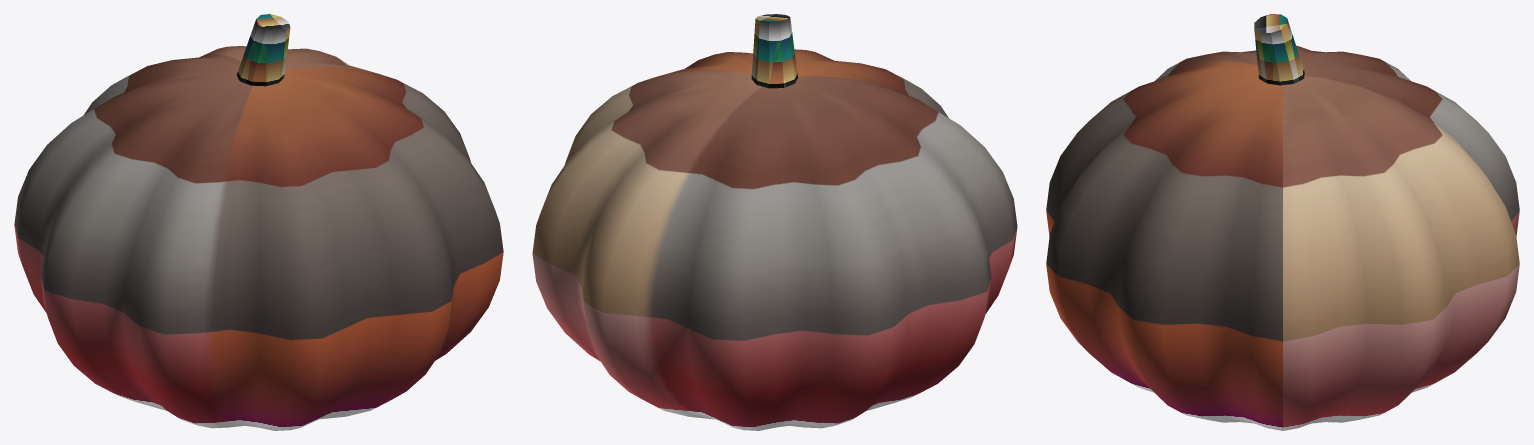
Rendered from EVHalloween_Decor_PumpkinWhite.fbx.
3 views of the same model, side by side, from view 1: azimuth 30°, elevation 25°; view 2: azimuth 150°, elevation 25°; view 3: azimuth 270°, elevation 25° (orthographic).
Parts seen in each view (by area): view 1: EVHalloween_Decor_PumpkinOrange; view 2: EVHalloween_Decor_PumpkinOrange; view 3: EVHalloween_Decor_PumpkinOrange.
Part boxes in pixels (bbox=[...]): EVHalloween_Decor_PumpkinOrange: bbox=[14, 14, 503, 430]; EVHalloween_Decor_PumpkinOrange: bbox=[532, 14, 1017, 430]; EVHalloween_Decor_PumpkinOrange: bbox=[1046, 14, 1519, 430].
Bounding box in the file's own units: 36.44 × 31.27 × 34.92.
